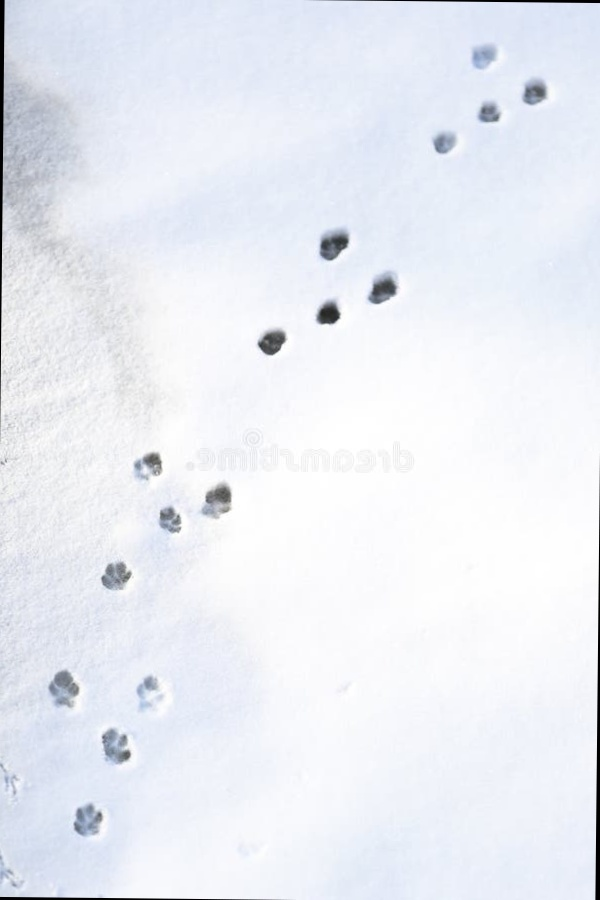rabbit: (222, 203, 427, 411)
